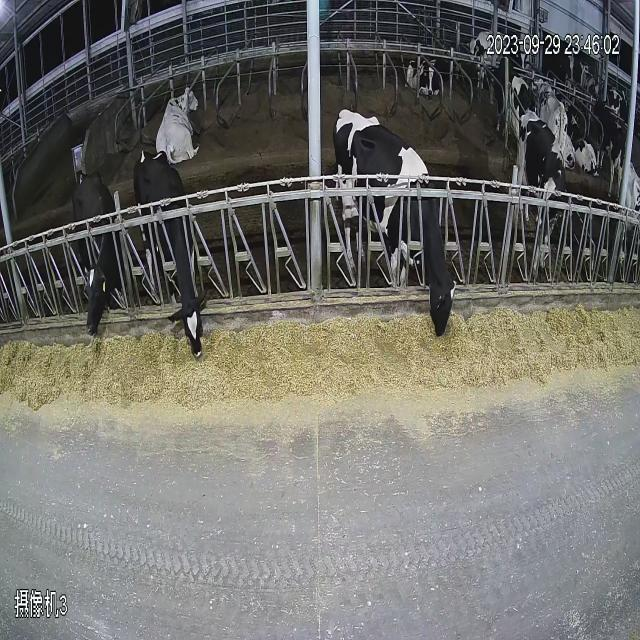feeding: (338, 112, 470, 358), (130, 155, 224, 365)
lying down: (144, 42, 218, 160), (378, 27, 448, 112), (556, 78, 596, 180)
standing: (508, 96, 571, 277), (598, 62, 640, 285), (468, 4, 536, 124), (561, 30, 604, 95)
